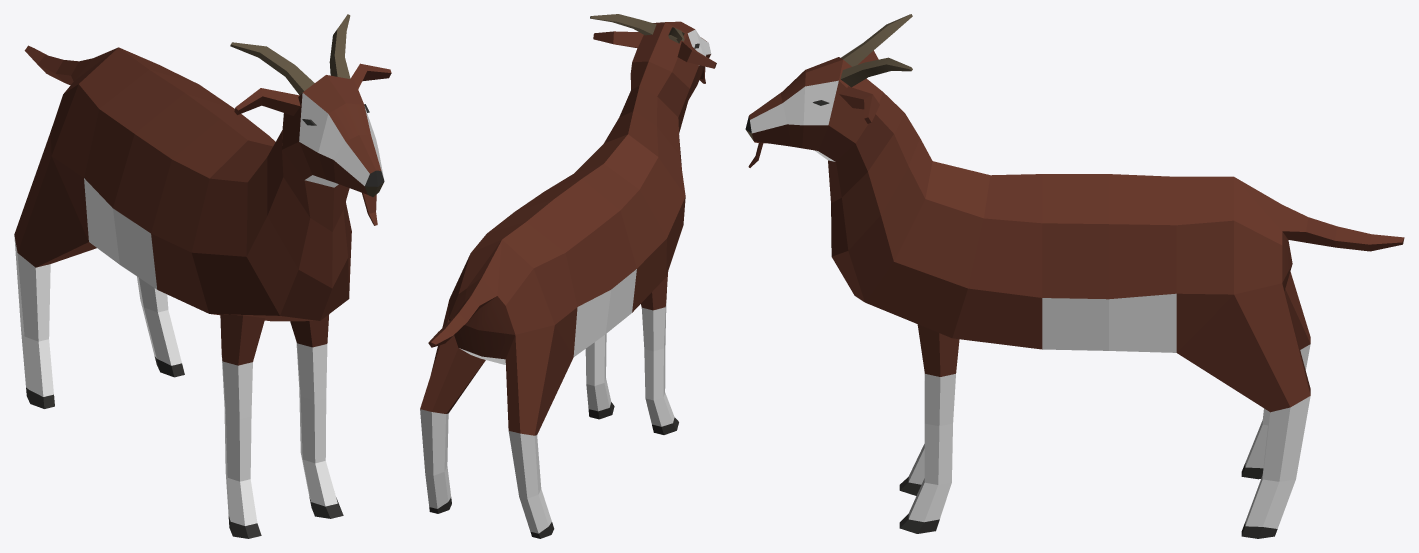
The picture shows the model from 3 angles, left to right: view 1: azimuth 30°, elevation 25°; view 2: azimuth 150°, elevation 25°; view 3: azimuth 270°, elevation 25°; orthographic projection. The views are drawn at different scales.
Parts seen in each view (by area): view 1: Geo_Goat; view 2: Geo_Goat; view 3: Geo_Goat.
Part boxes in pixels (box(x1,y1,x2,y2)): Geo_Goat: box(14, 14, 391, 538); Geo_Goat: box(420, 14, 716, 538); Geo_Goat: box(745, 14, 1404, 538).
Size of the model in its own units: 51.84 by 159 by 203.
Materials: 1 (1 with a texture image).
